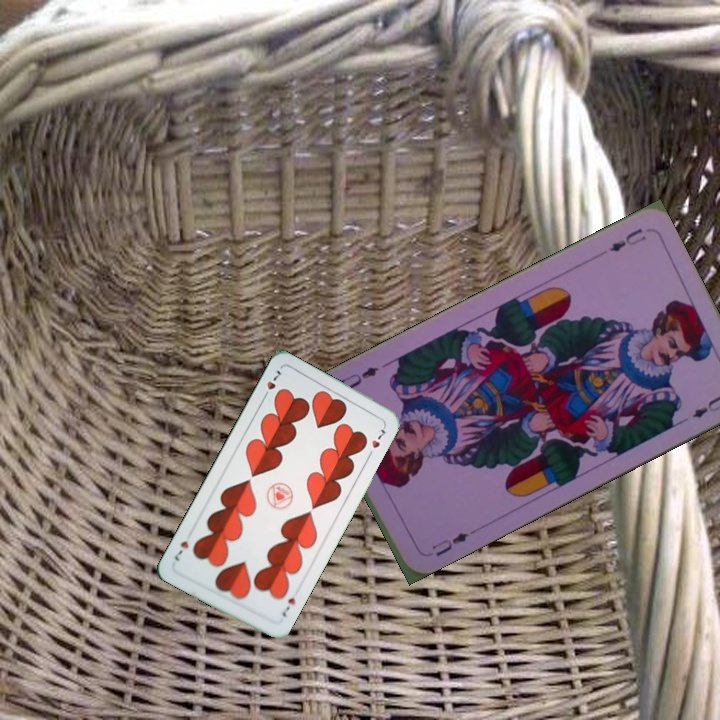EU: (428, 526, 476, 560), (605, 224, 649, 255)
H7: (259, 366, 284, 402), (278, 588, 300, 620)
